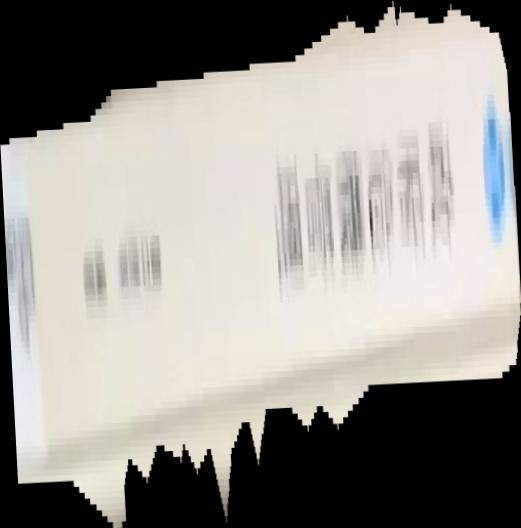flat: (1, 1, 521, 528)
